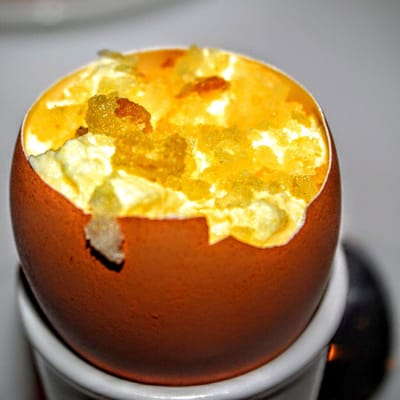pizza: (7, 34, 344, 398)
